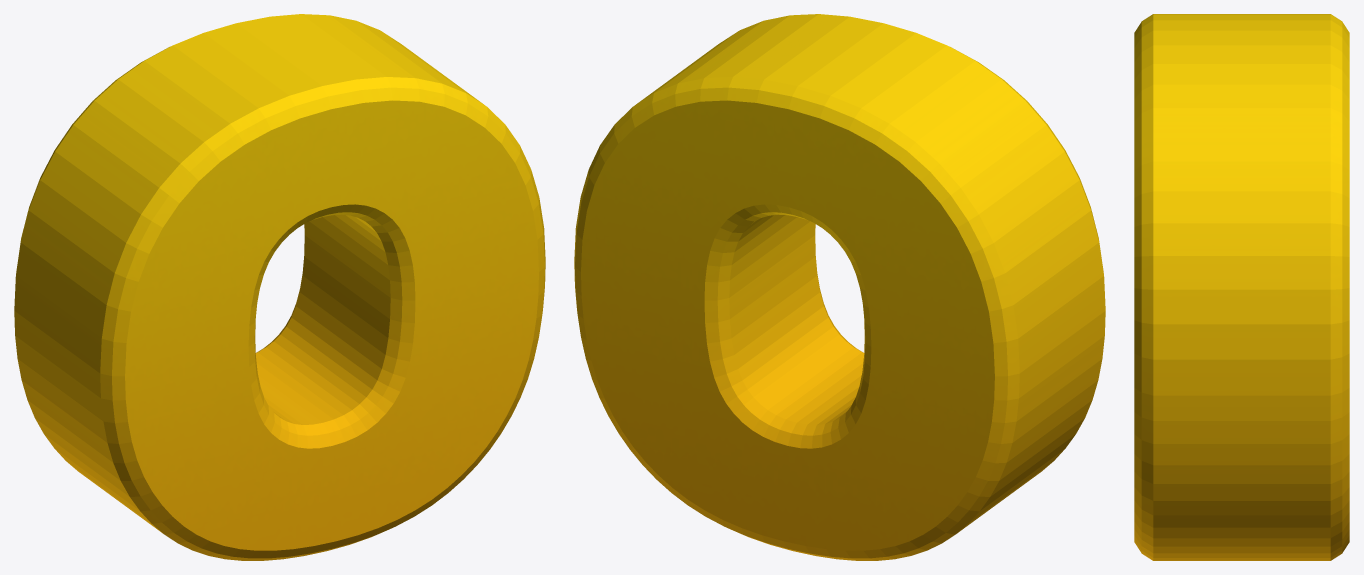
The picture shows the model from 3 angles, left to right: view 1: azimuth 30°, elevation 25°; view 2: azimuth 150°, elevation 25°; view 3: azimuth 270°, elevation 25°; orthographic projection. The views are drawn at different scales.
Visible parts, largest first — view 1: 003-o; view 2: 003-o; view 3: 003-o.
Boxes of the visible parts, x1,y1,x2,y2 form: 003-o: (14,14,545,560); 003-o: (574,14,1105,560); 003-o: (1134,14,1349,560).
Size of the model in its own units: 9.27 by 9.27 by 3.75.
